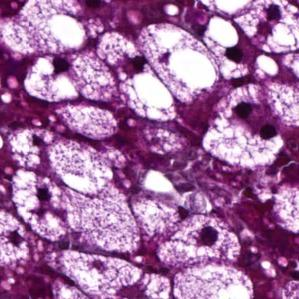ballooning: (201, 79, 286, 172), (135, 20, 221, 107), (157, 212, 243, 272), (10, 167, 73, 241), (24, 53, 83, 105)
